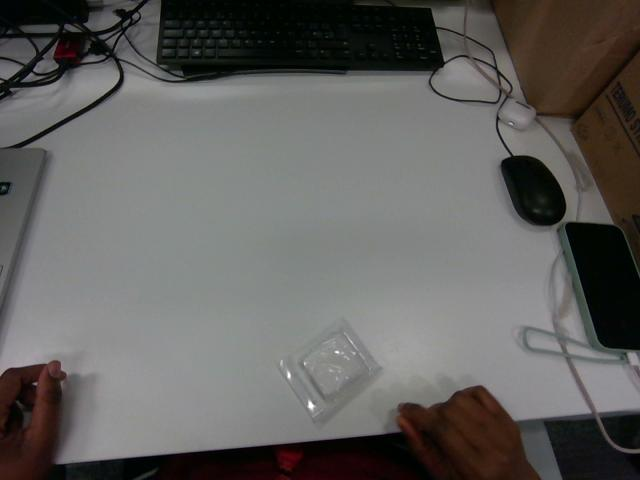gauze: (279, 319, 382, 422)
